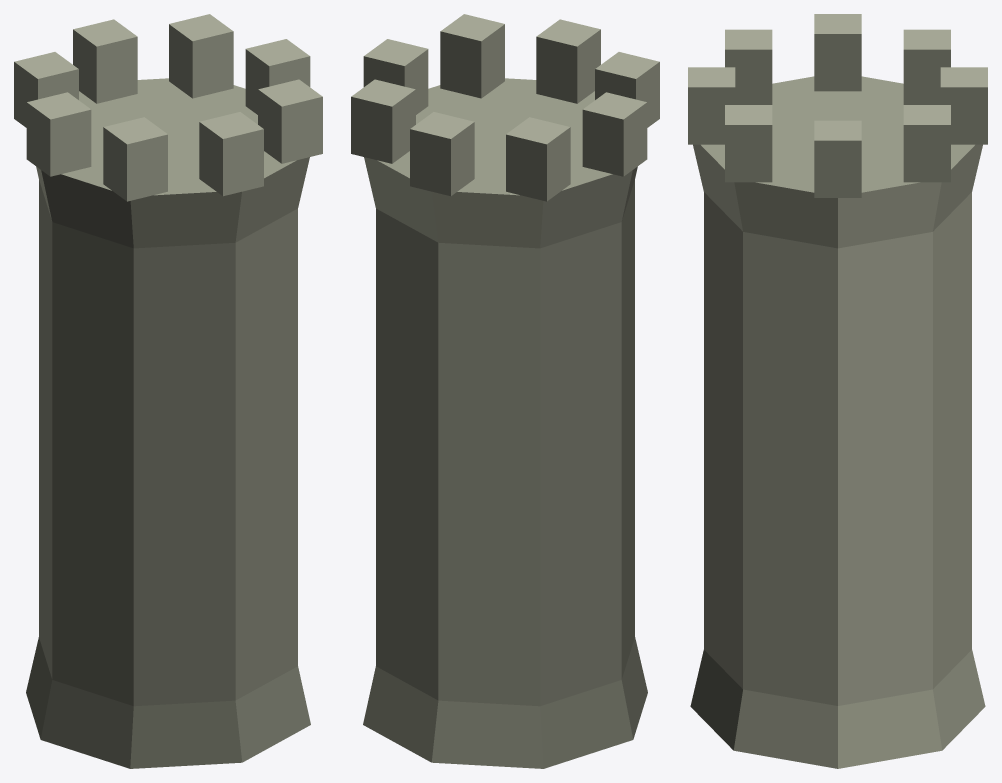
3 renders of one model, left to right at view 1: azimuth 30°, elevation 25°; view 2: azimuth 150°, elevation 25°; view 3: azimuth 270°, elevation 25°, orthographic.
Parts seen in each view (by area): view 1: 809a3d0da12723a71b8daaeeb2251a98798ae8aad98be46462ce4dd0351d; view 2: 809a3d0da12723a71b8daaeeb2251a98798ae8aad98be46462ce4dd0351d; view 3: 809a3d0da12723a71b8daaeeb2251a98798ae8aad98be46462ce4dd0351d.
Boxes of the visible parts, <box> form: 809a3d0da12723a71b8daaeeb2251a98798ae8aad98be46462ce4dd0351d: <box>14,14,322,768</box>; 809a3d0da12723a71b8daaeeb2251a98798ae8aad98be46462ce4dd0351d: <box>351,14,659,768</box>; 809a3d0da12723a71b8daaeeb2251a98798ae8aad98be46462ce4dd0351d: <box>688,14,987,768</box>.
Bounding box in the file's own units: 3.8 × 8.8 × 3.8.
